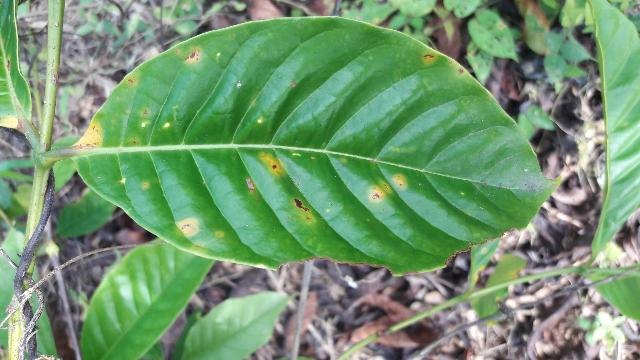rust_level_2: (70, 16, 558, 275)
